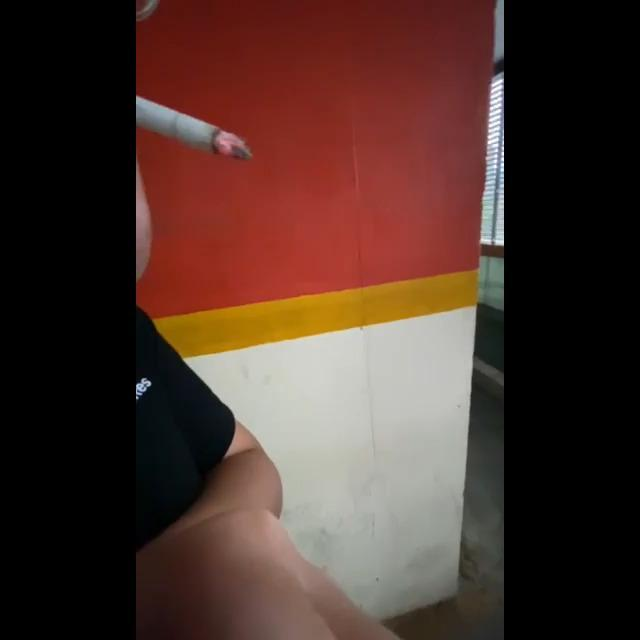rokok: (135, 91, 251, 165)
